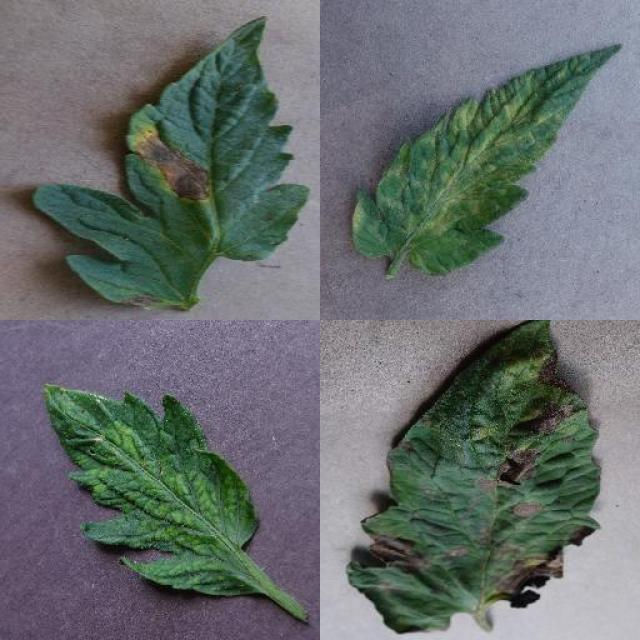Early Blight: (34, 10, 314, 315), (346, 320, 602, 640)
